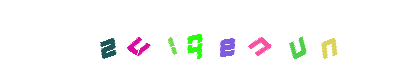E: (182, 0, 262, 80)
I: (155, 0, 235, 80)
N: (206, 0, 286, 80), (269, 0, 349, 80)
Q: (169, 0, 249, 80)
U: (97, 0, 177, 80)
V: (219, 0, 299, 80)
Z: (68, 0, 148, 80)
